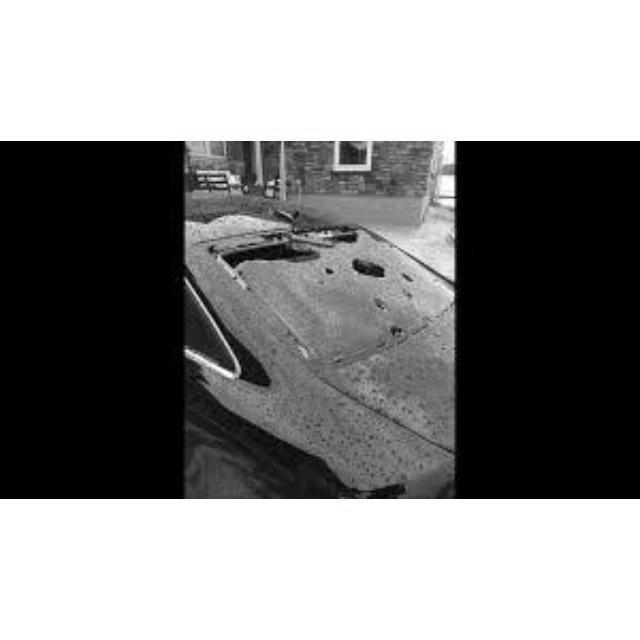Rear-windscreen-Damage: (252, 222, 435, 358)
